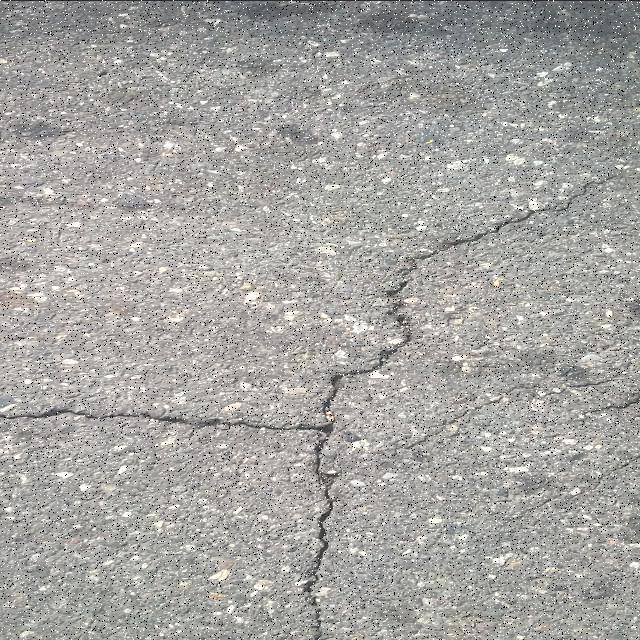Crack: (0, 172, 620, 640), (393, 382, 542, 450), (508, 452, 640, 515), (539, 362, 640, 397), (585, 395, 640, 413)
